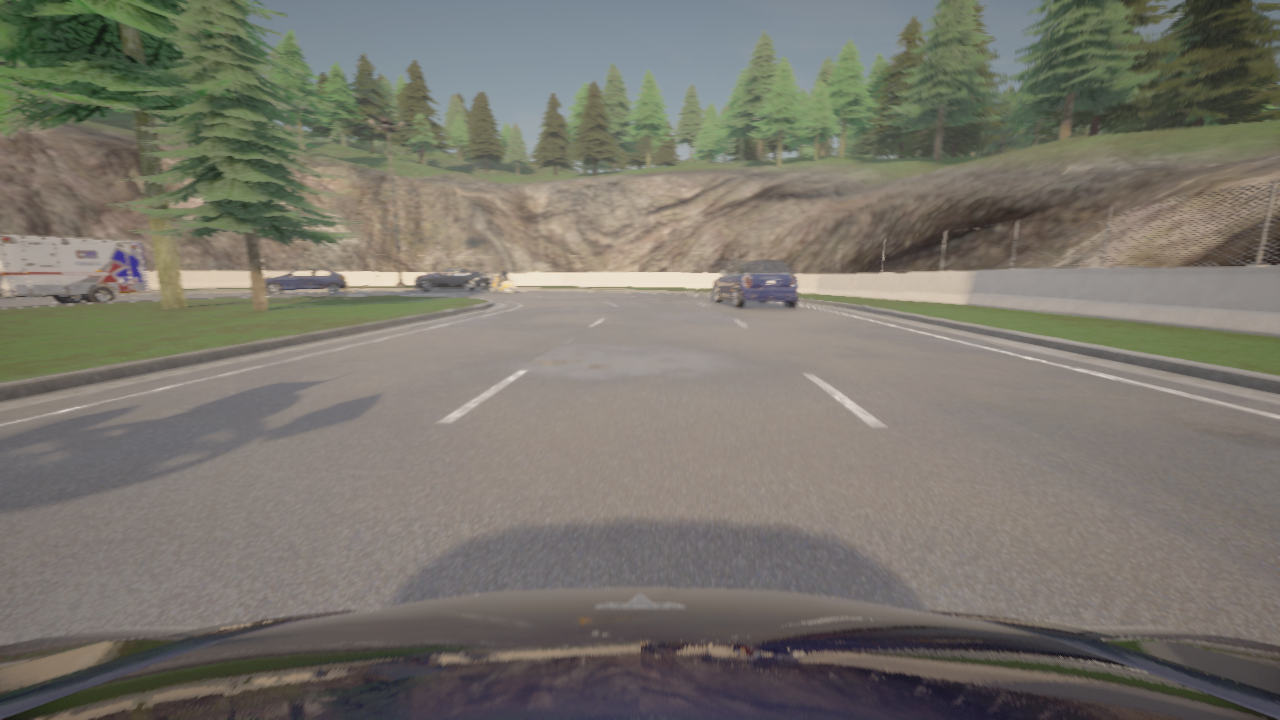cyclist: (0, 588, 1279, 719), (712, 257, 797, 308), (264, 268, 346, 295), (414, 269, 490, 291), (489, 273, 515, 293)
